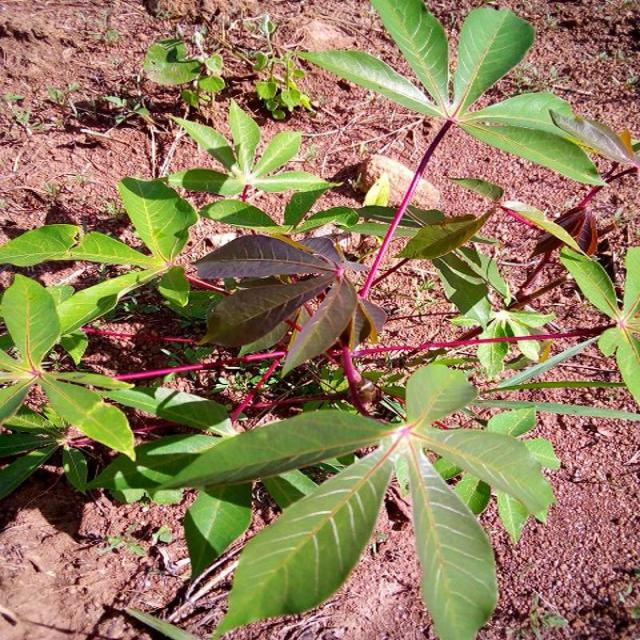cassava leaf: (212, 438, 398, 638), (406, 437, 499, 638)
